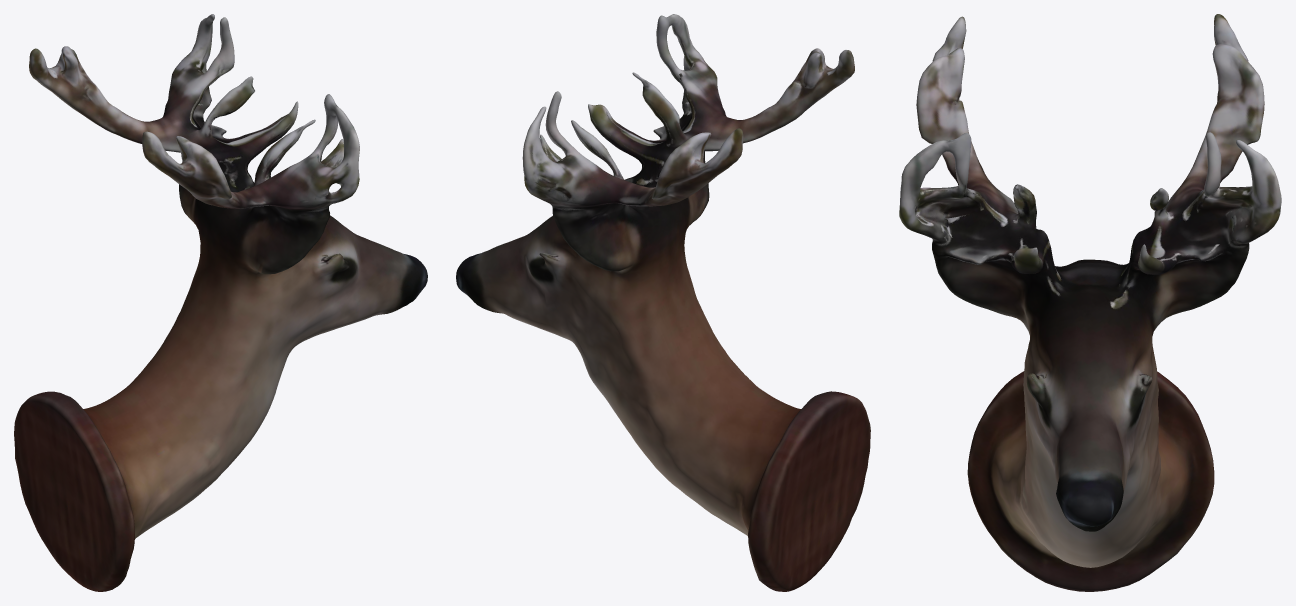
File: d1c1115fe2fe_deer_head__3d_asset.fbx
3 views of the same model, side by side, from view 1: azimuth 30°, elevation 25°; view 2: azimuth 150°, elevation 25°; view 3: azimuth 270°, elevation 25° (orthographic). The views are drawn at different scales.
Visible parts, largest first — view 1: mesh; view 2: mesh; view 3: mesh.
Part boxes in pixels (bbox=[...]): mesh: bbox=[14, 14, 427, 591]; mesh: bbox=[456, 14, 870, 591]; mesh: bbox=[899, 14, 1281, 591].
Size of the model in its own units: 78.04 by 99.67 by 59.8.
